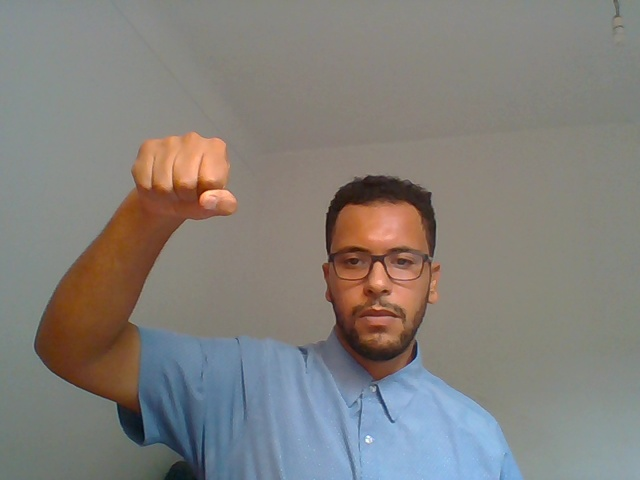yes: (107, 100, 275, 283)
